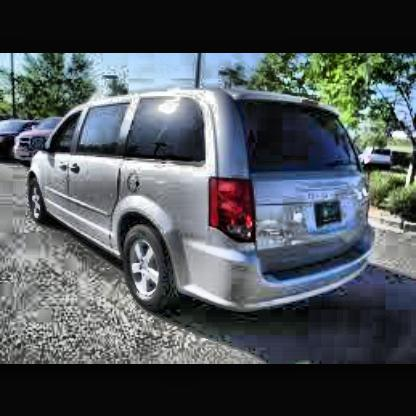Ram C-V Cargo Van Minivan 2012: (31, 88, 377, 312)
